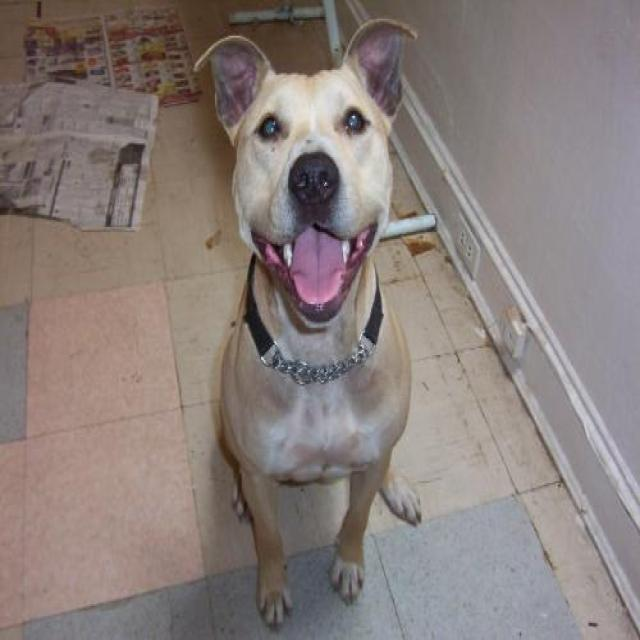dogs: (194, 18, 423, 629)
